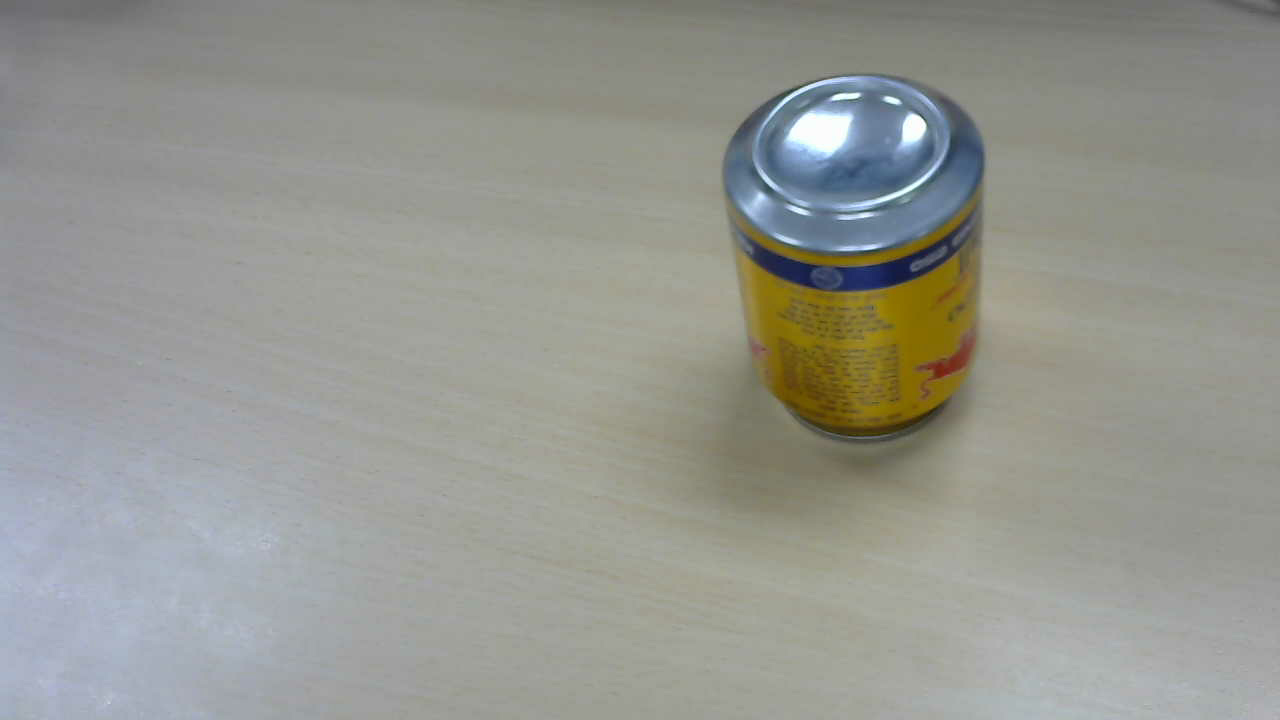Red_Bull: (721, 79, 993, 444)
